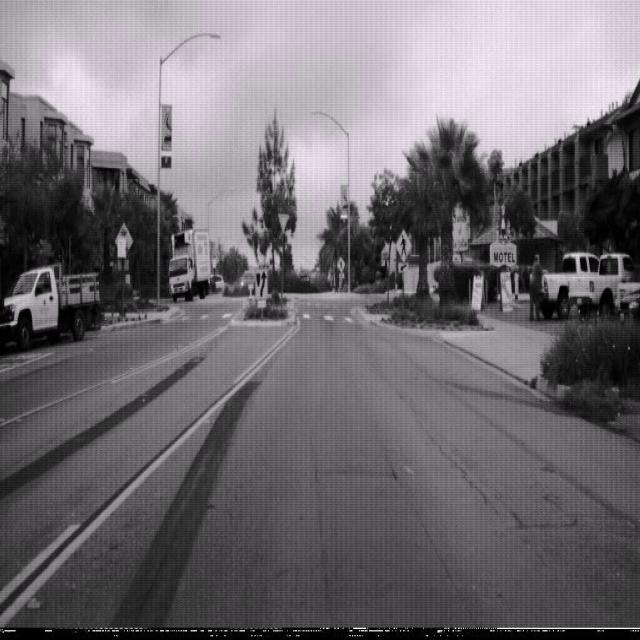pedestrianCrossing: (394, 226, 412, 264)
yield: (278, 211, 290, 234)
